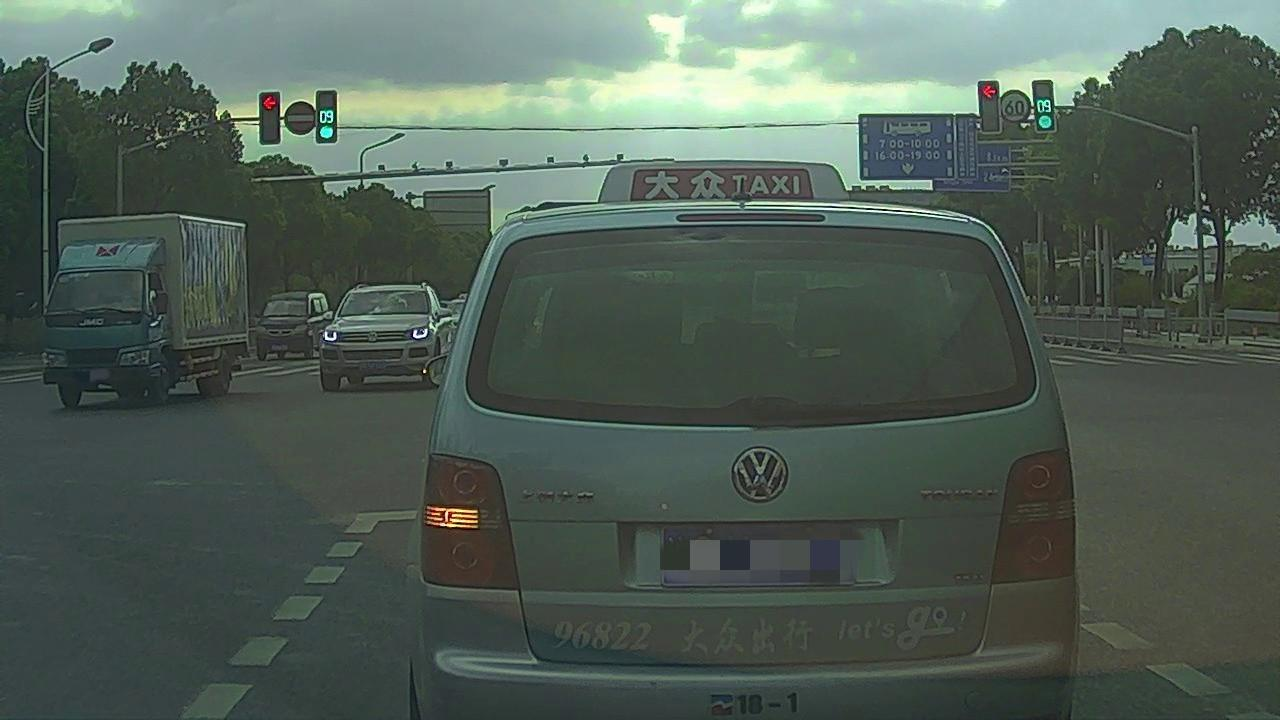traffic_light: (1032, 81, 1055, 131), (260, 93, 280, 147), (979, 82, 1000, 133), (318, 89, 337, 143)
